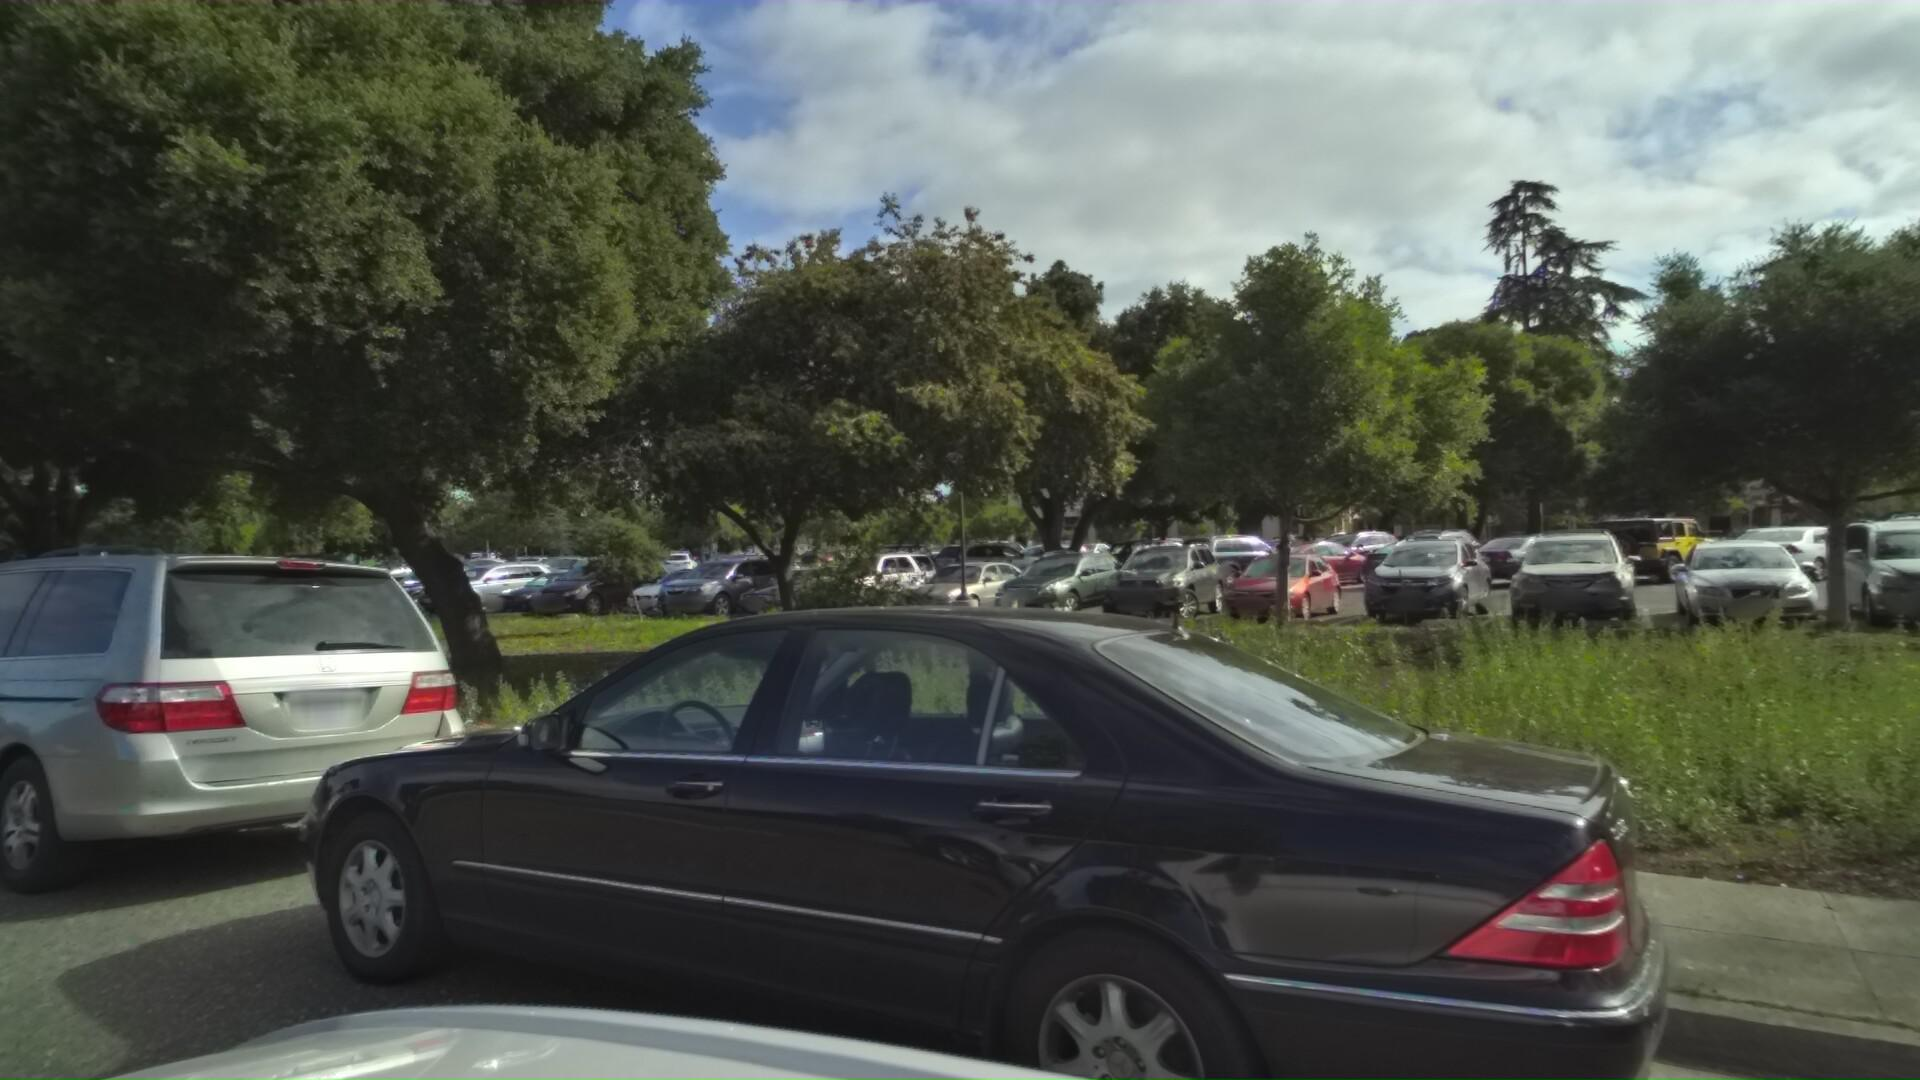car: (236, 556, 1919, 1080), (0, 520, 545, 967)
